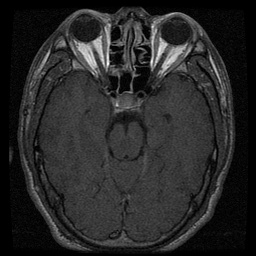pituitary: (111, 90, 143, 112)
